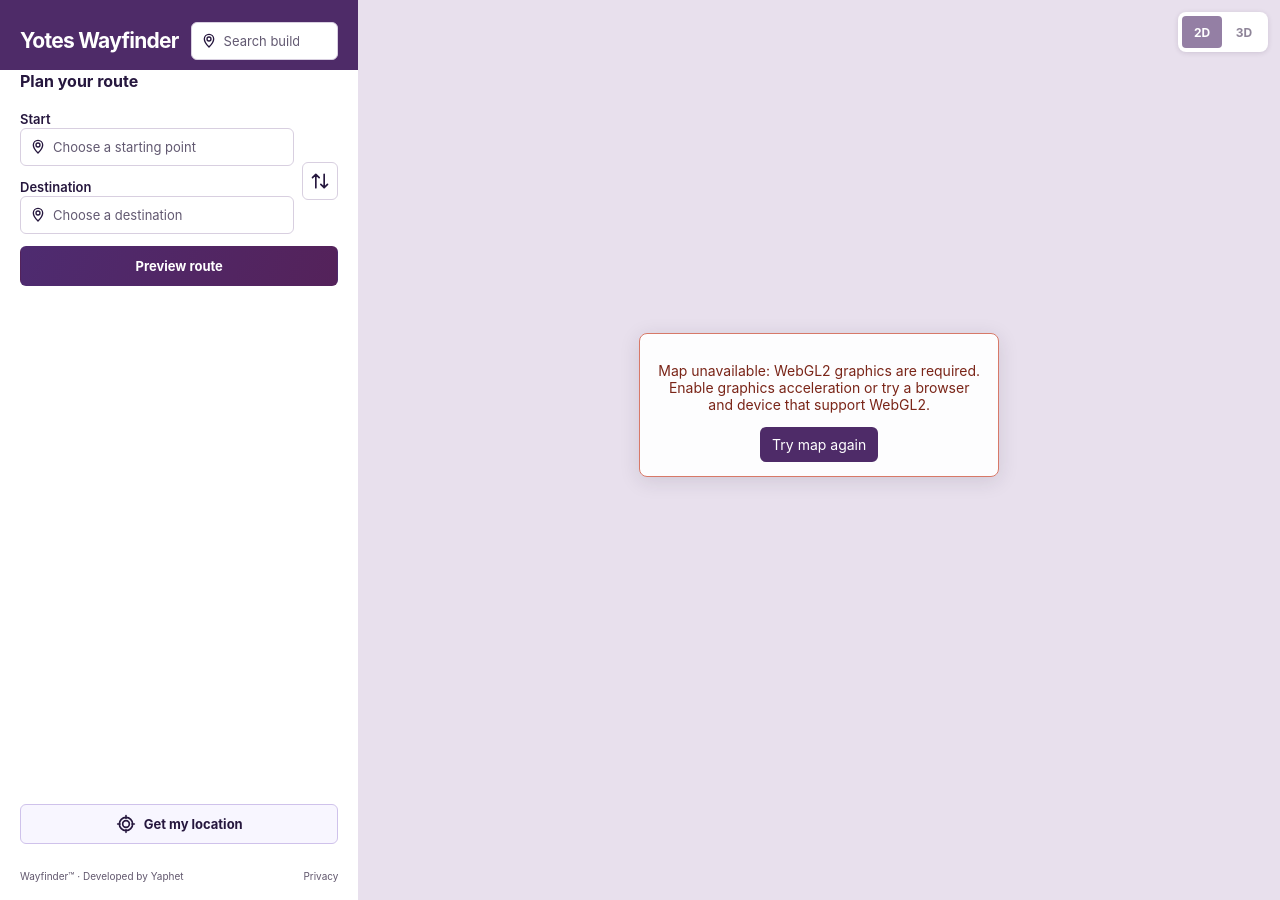
Test: App › allows a person to select an autocomplete suggestion with the keyboard
The image size is (1280, 900).
Type "Morrison" into the dropdown labelled "Start".
click(157, 147); type("Morrison")  # box [20, 128, 294, 166]
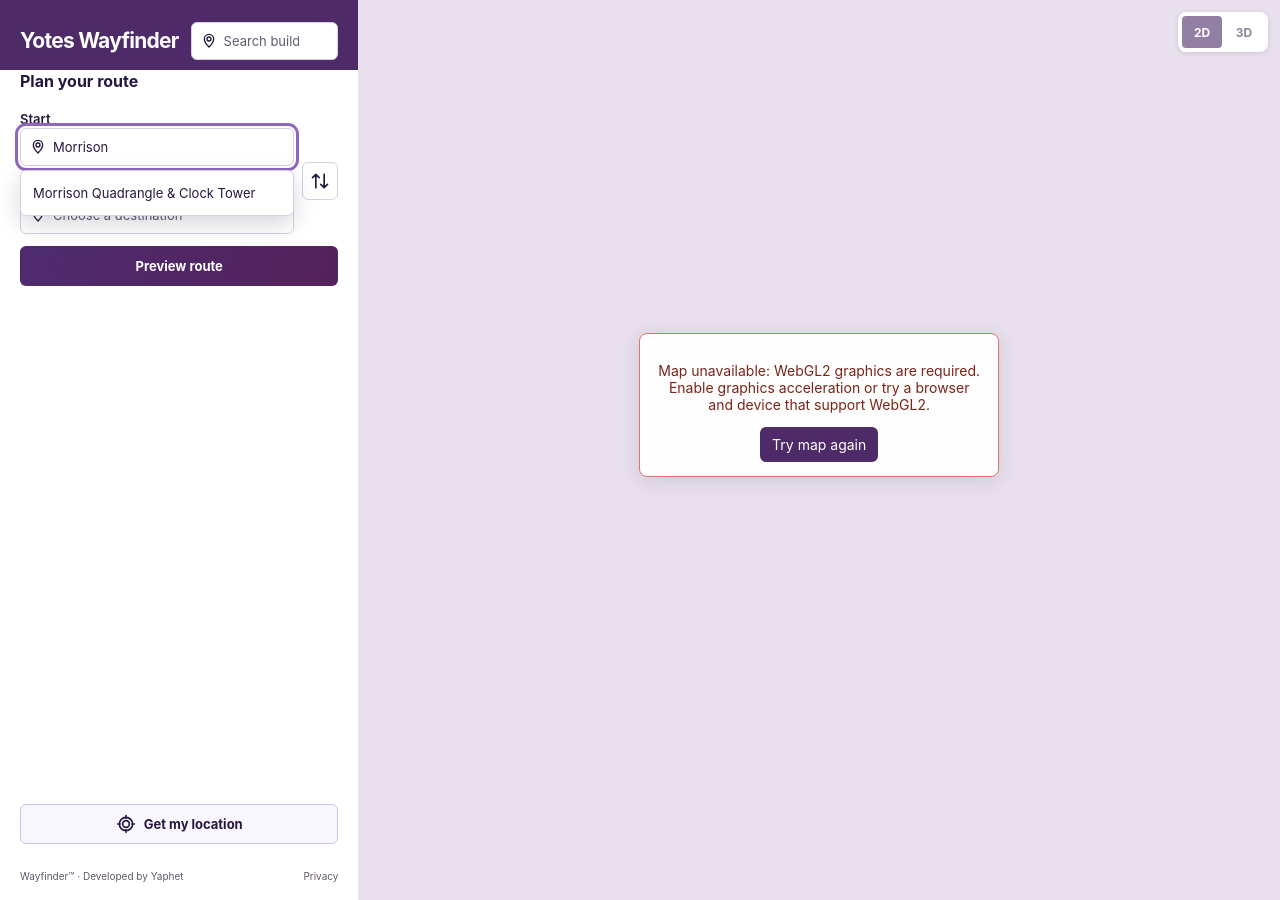
Press Arrowdown Enter
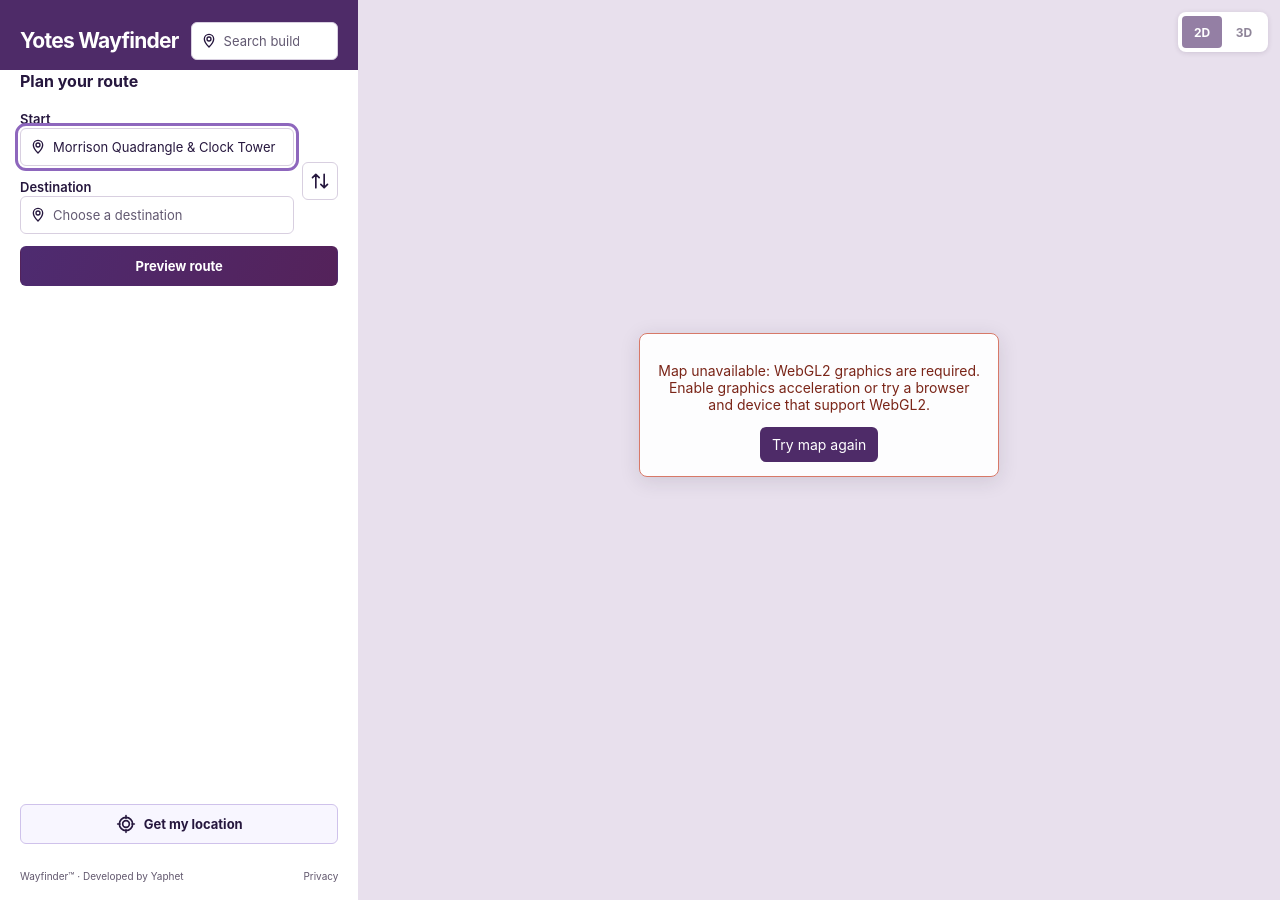
Expected: the dropdown labelled "Start" holds "Morrison Quadrangle & Clock Tower", [20, 128, 294, 166]
Click the dropdown labelled "Destination".
click(157, 215)  # box [20, 196, 294, 234]
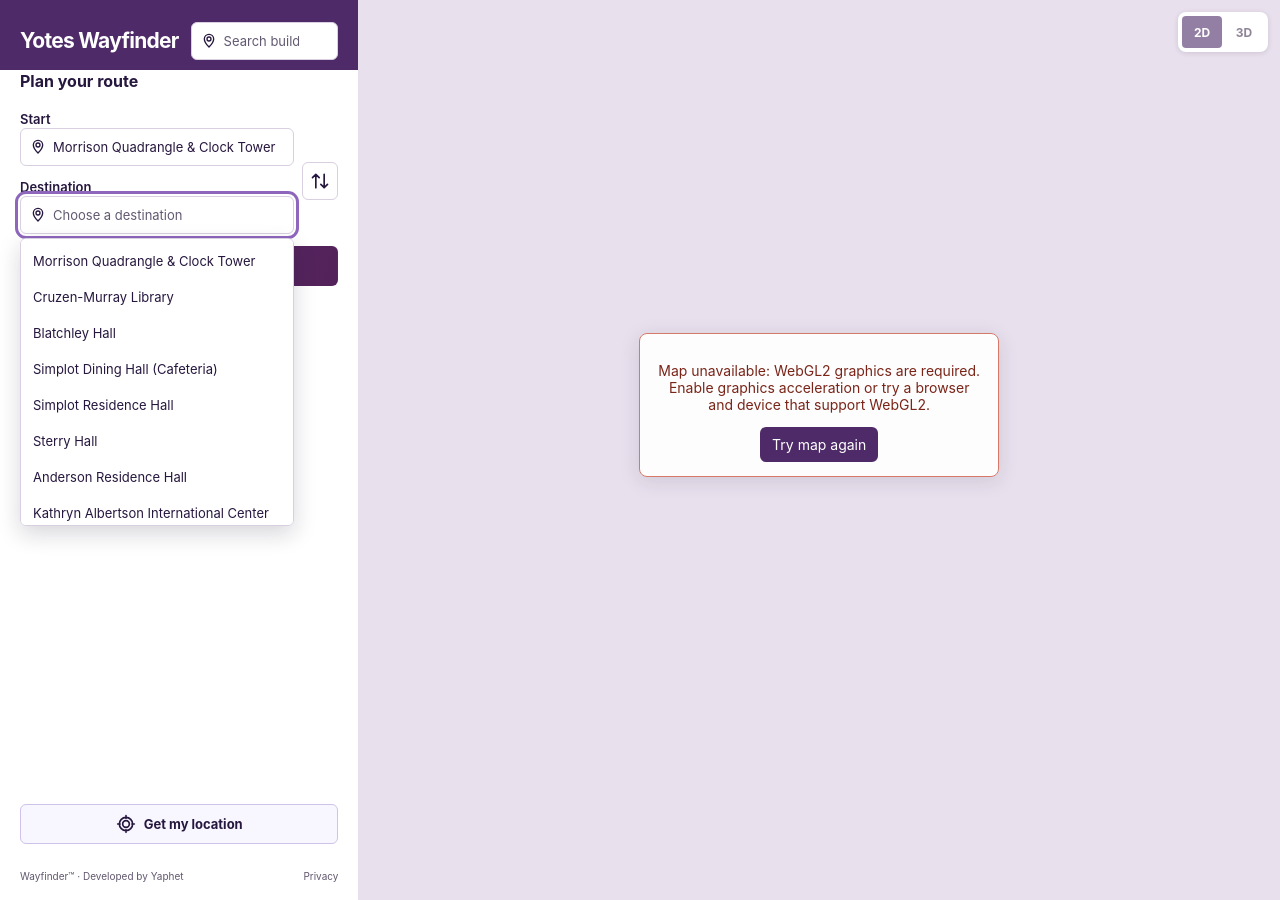
Click the option "Simplot Dining Hall (Cafeteria)".
click(125, 369)  # box [33, 361, 218, 377]
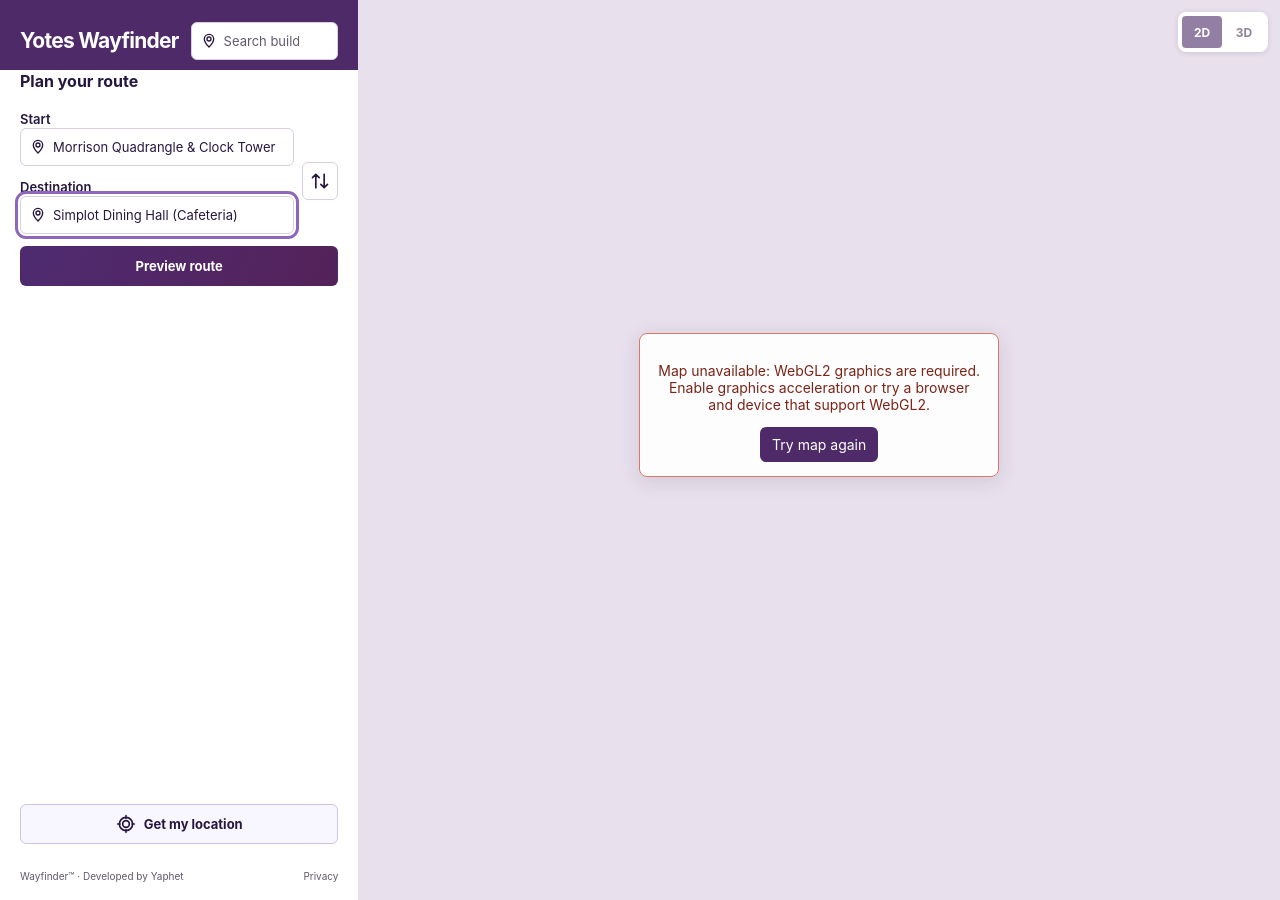
Click the button "Preview route".
click(179, 266)  # box [20, 246, 338, 286]
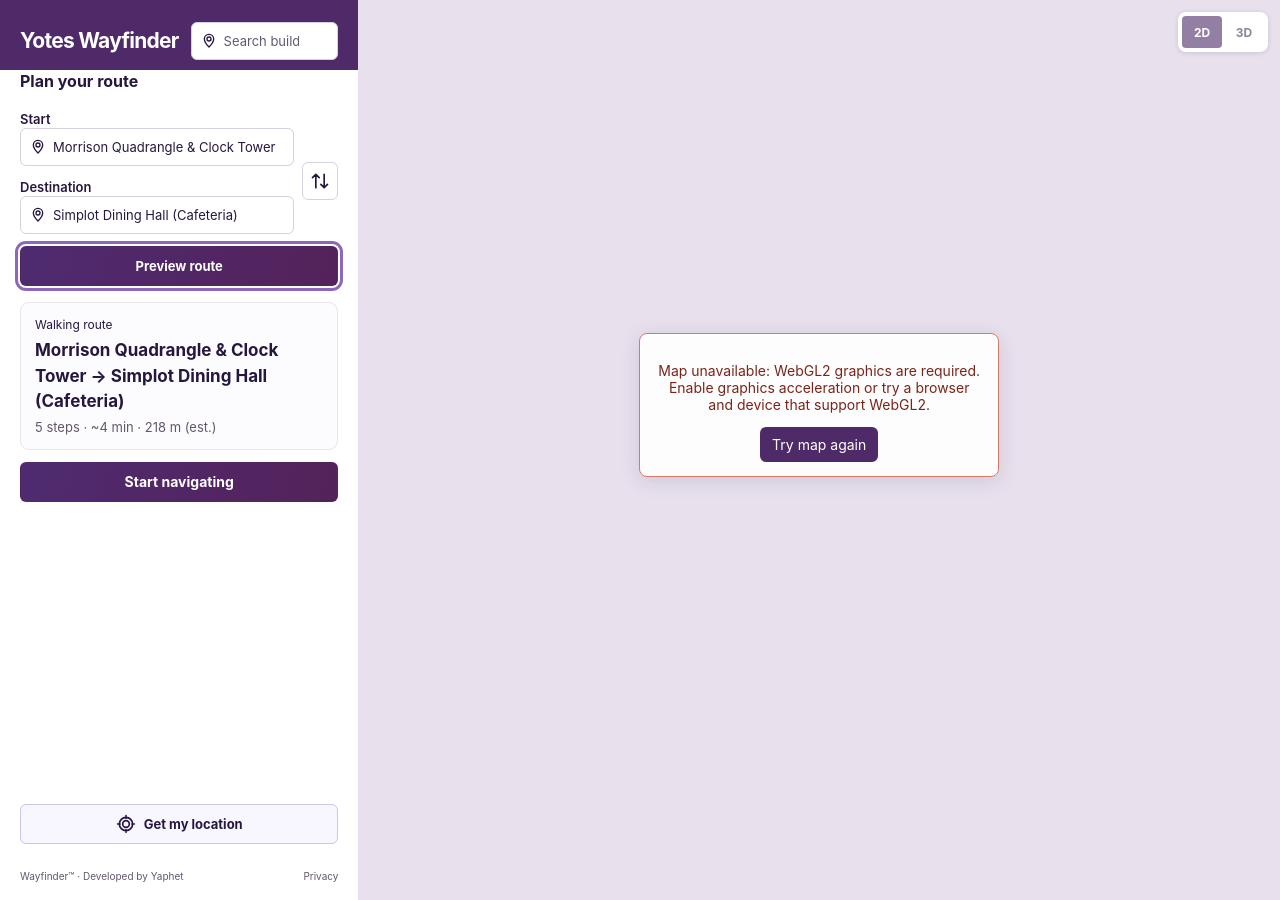
Expected: the text "Walking route" is shown, [35, 317, 113, 332]
